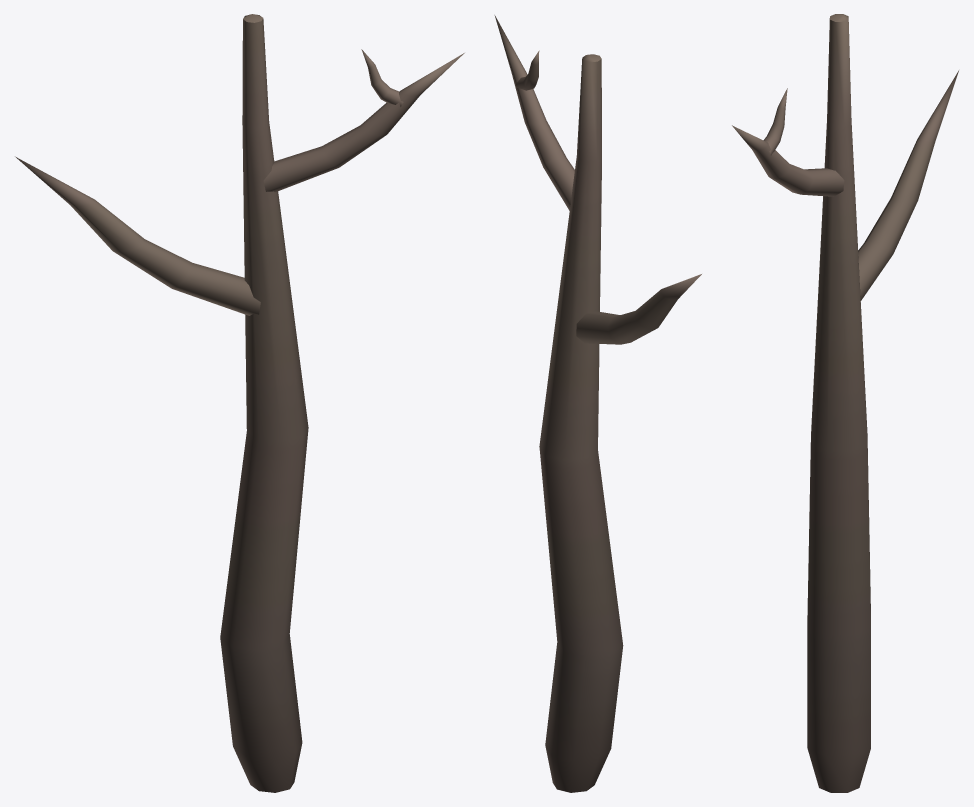
File: tree_dead_large.glb
3 renders of one model, left to right at view 1: azimuth 30°, elevation 25°; view 2: azimuth 150°, elevation 25°; view 3: azimuth 270°, elevation 25°, orthographic. The views are drawn at different scales.
Parts seen in each view (by area): view 1: tree_dead_large; view 2: tree_dead_large; view 3: tree_dead_large.
Part boxes in pixels (bbox=[...]): tree_dead_large: bbox=[15, 14, 464, 792]; tree_dead_large: bbox=[494, 15, 701, 792]; tree_dead_large: bbox=[732, 14, 958, 792].
Bounding box in the file's own units: 2.3 × 5.07 × 1.38.
1 material, 1 textured.
